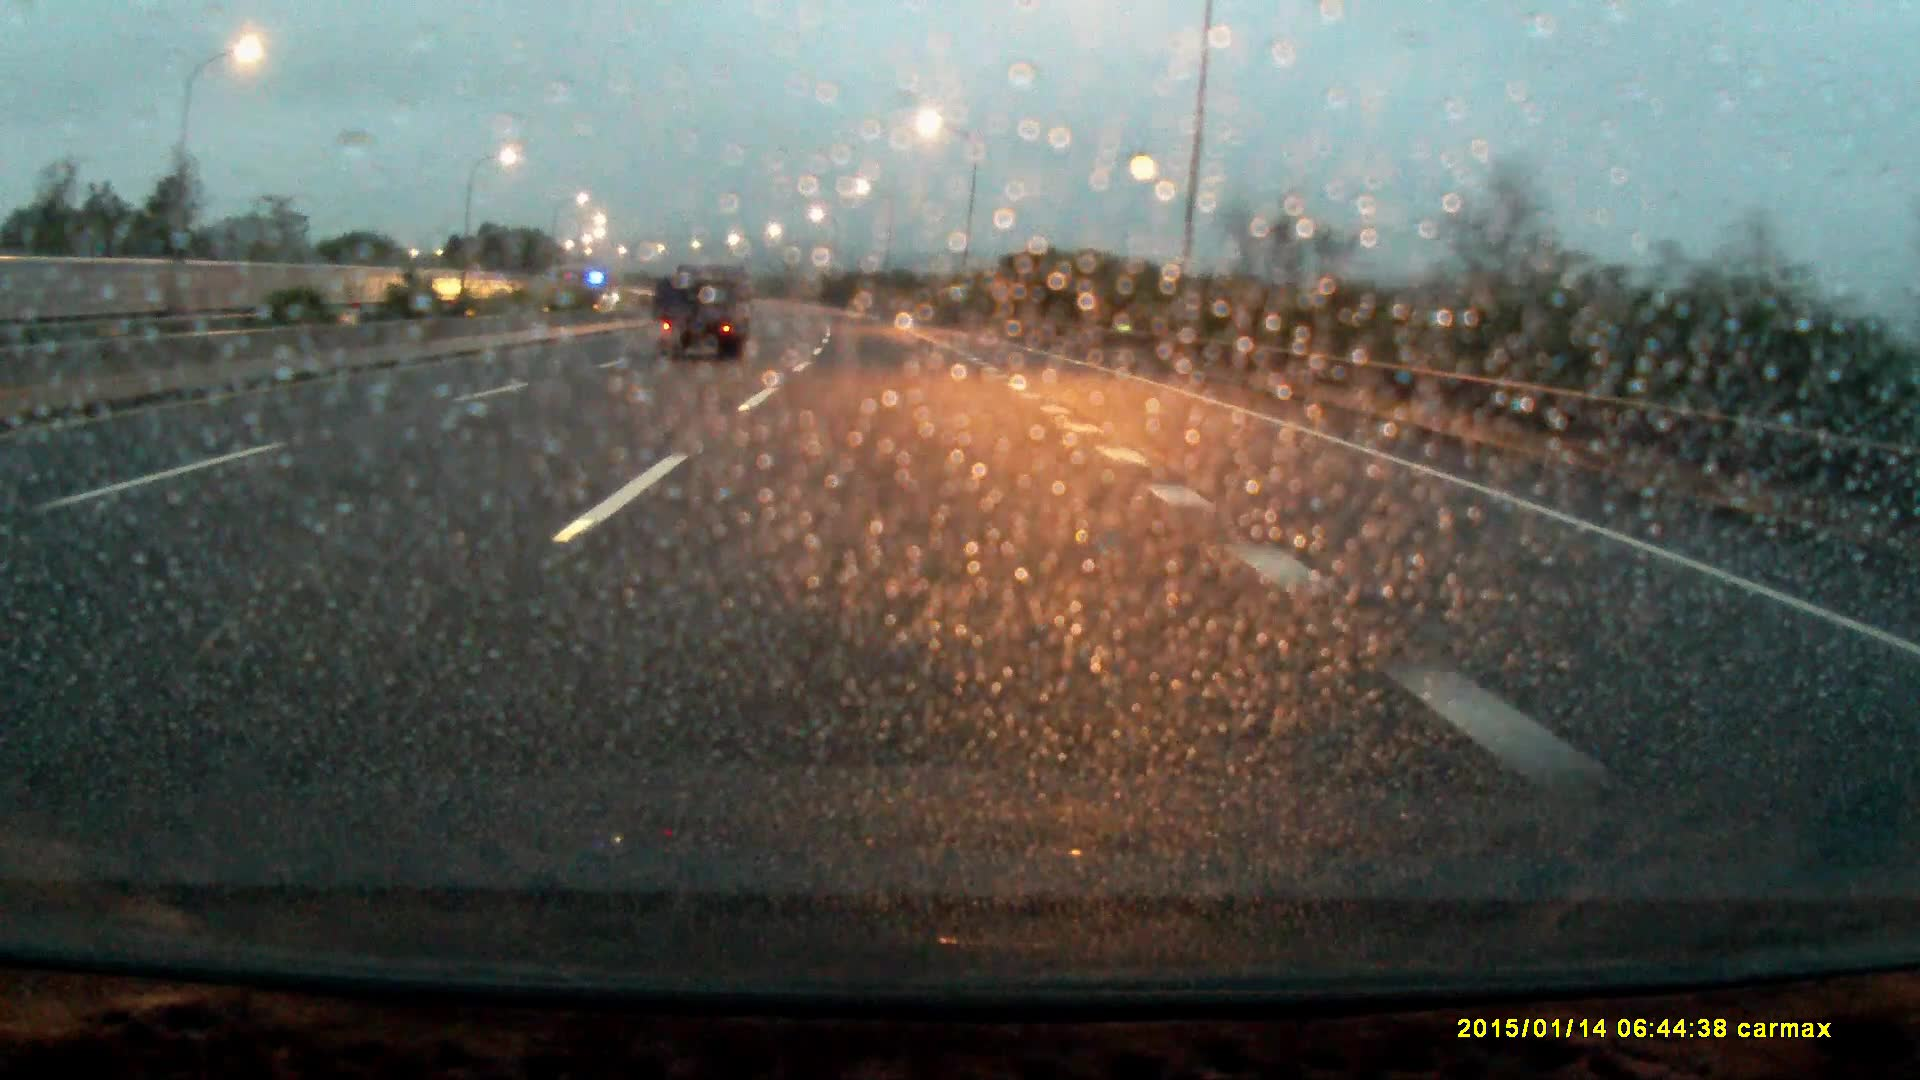vehicle: (659, 260, 753, 363)
